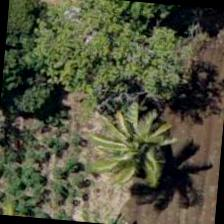Kelapa_Sawit: (81, 100, 179, 198)
